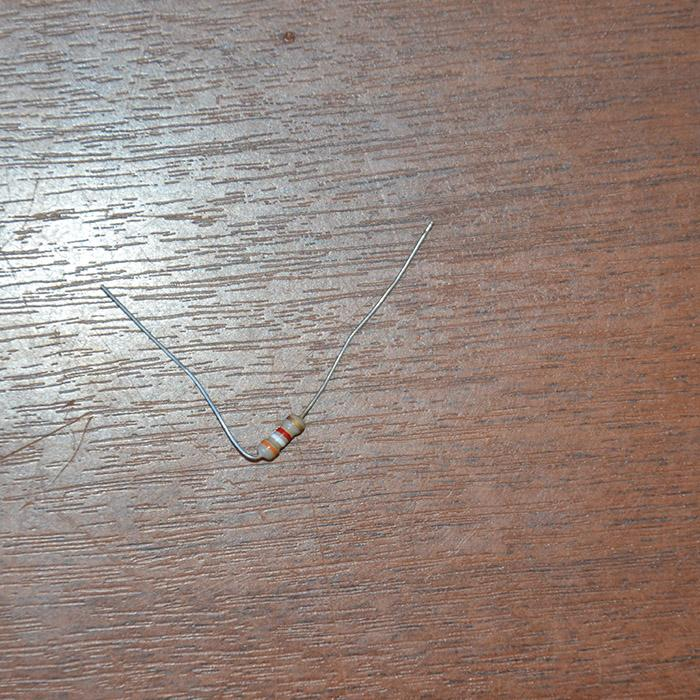resistor: (257, 412, 305, 460)
